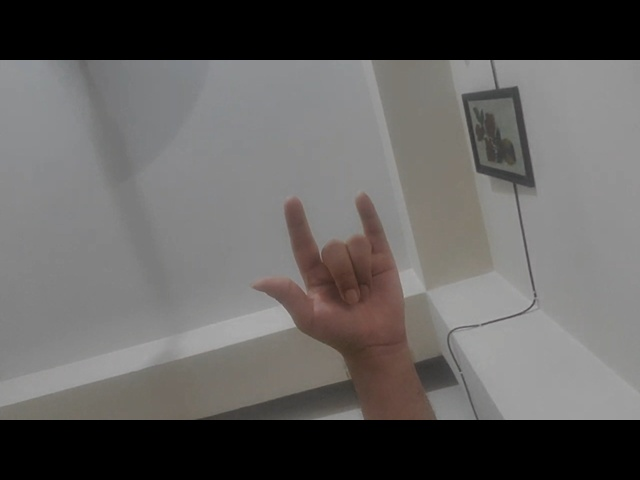I love you: (234, 183, 433, 353)
